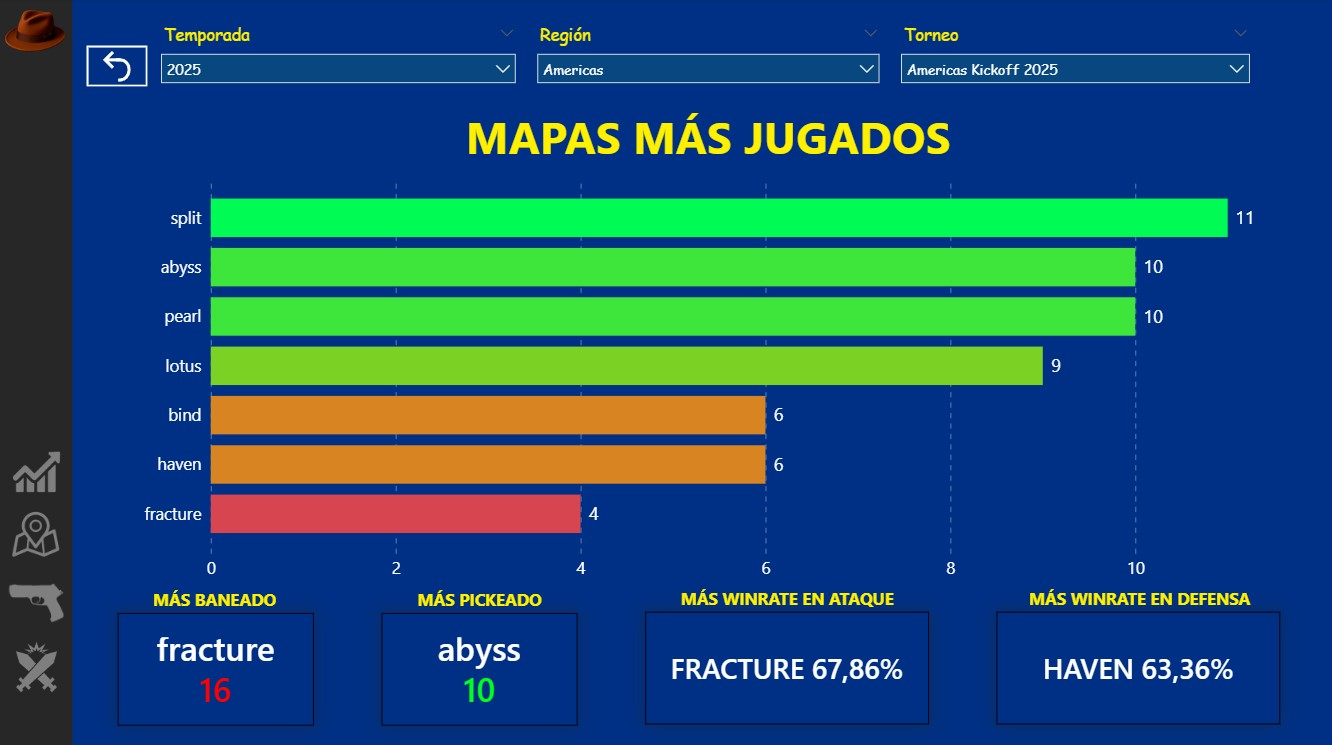

The dashboard page shown, as its layout file describes it:
{"tool":"powerbi","page":{"name":"Mapas","canvas":[1280,720],"ordinal":1},"visuals":[{"type":"shape","box":[0,0,70.7,720.3],"z":0},{"type":"image","box":[0,0,70.7,68.3],"z":1000},{"type":"image","box":[13.2,431.5,45.5,45.5],"z":2000},{"type":"image","box":[10.8,486.6,49.1,55.1],"z":3000},{"type":"image","box":[8.4,541.7,55.1,76.7],"z":4000},{"type":"image","box":[6,598.1,59.9,89.9],"z":5000},{"type":"slicer","fields":{"Values":["competitions.season"]},"box":[145,19.2,360.7,82.7],"z":6000},{"type":"slicer","fields":{"Values":["competitions.region"]},"box":[505.8,19.2,348.8,93.5],"z":7000},{"type":"slicer","fields":{"Values":["competitions.name"]},"box":[854.5,19.2,354.8,82.7],"z":8000},{"type":"textbox","box":[274.5,98.3,811.4,73.1],"z":9000},{"type":"barChart","fields":{"Category":["vw_map_stats.map_name"],"Y":["Sum(vw_map_stats.veces_jugado)"]},"box":[128.2,160.6,1105,407.5],"z":10000},{"type":"actionButton","box":[83.9,45.5,58.7,39.6],"z":11000},{"type":"cardVisual","fields":{"Data":["Medidas.Mapa Más Baneado","Medidas.Bans Mapa Más Baneado"]},"box":[113.6,589.7,188.2,107.9],"z":12000},{"type":"textbox","box":[124.6,560.9,164.2,34.8],"z":13000},{"type":"cardVisual","fields":{"Data":["Medidas.Mapa Más Pickeado","Medidas.Picks Mapa Más Pickeado"]},"box":[366.5,589.7,188.2,107.9],"z":14000},{"type":"textbox","box":[378.7,560.9,164.2,34.8],"z":15000},{"type":"cardVisual","fields":{"Data":["Medidas.Mapa Mejor Ataque Texto"]},"box":[619.4,588.5,272.1,107.9],"z":16000},{"type":"textbox","box":[626.8,559.7,257.7,34.8],"z":17000},{"type":"cardVisual","fields":{"Data":["Medidas.Mapa Mejor Defensa Texto"]},"box":[956.1,588.5,272.1,107.9],"z":18000},{"type":"textbox","box":[964.8,559.7,257.7,34.8],"z":19000}]}

Visuals, with their boxes on the page's 1280x720 design canvas (x1, y1, x2, y2). These are canvas units, not pixel positions in the 1332x745 screenshot, which may show the page scaled, cropped or inside an application window:
shape: (0,0,71,720)
image: (0,0,71,68)
image: (13,432,59,477)
image: (11,487,60,542)
image: (8,542,64,618)
image: (6,598,66,688)
slicer - competitions.season: (145,19,506,102)
slicer - competitions.region: (506,19,855,113)
slicer - competitions.name: (854,19,1209,102)
textbox: (274,98,1086,171)
barChart - vw_map_stats.map_name x Sum(vw_map_stats.veces_jugado): (128,161,1233,568)
actionButton: (84,46,143,85)
cardVisual - Medidas.Mapa Más Baneado x Medidas.Bans Mapa Más Baneado: (114,590,302,698)
textbox: (125,561,289,596)
cardVisual - Medidas.Mapa Más Pickeado x Medidas.Picks Mapa Más Pickeado: (366,590,555,698)
textbox: (379,561,543,596)
cardVisual - Medidas.Mapa Mejor Ataque Texto: (619,588,892,696)
textbox: (627,560,884,594)
cardVisual - Medidas.Mapa Mejor Defensa Texto: (956,588,1228,696)
textbox: (965,560,1222,594)
